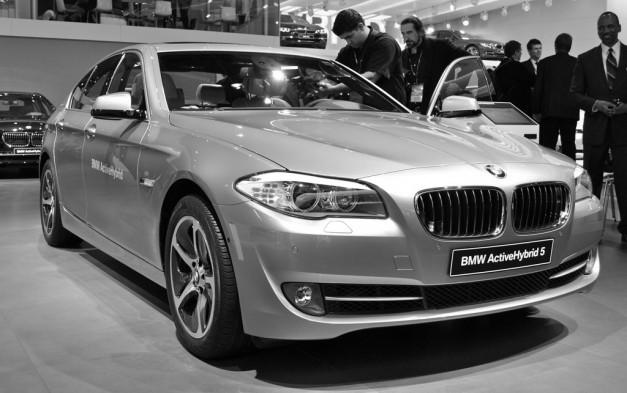car: (38, 43, 607, 359)
